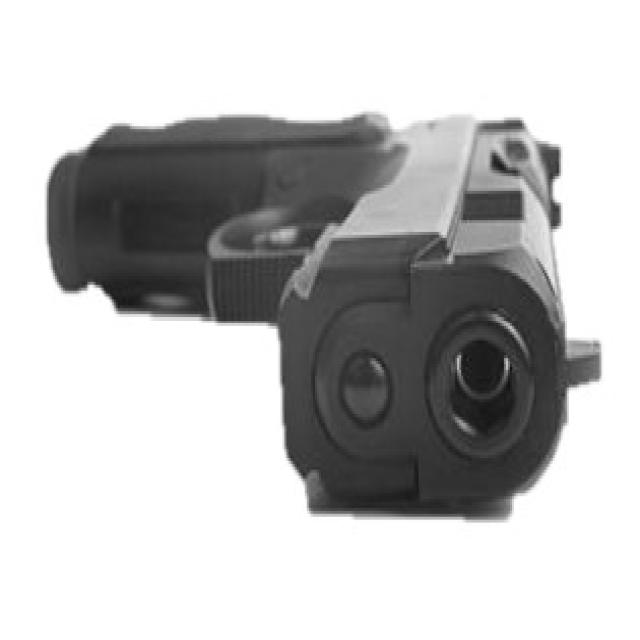pistol: (42, 95, 617, 531)
